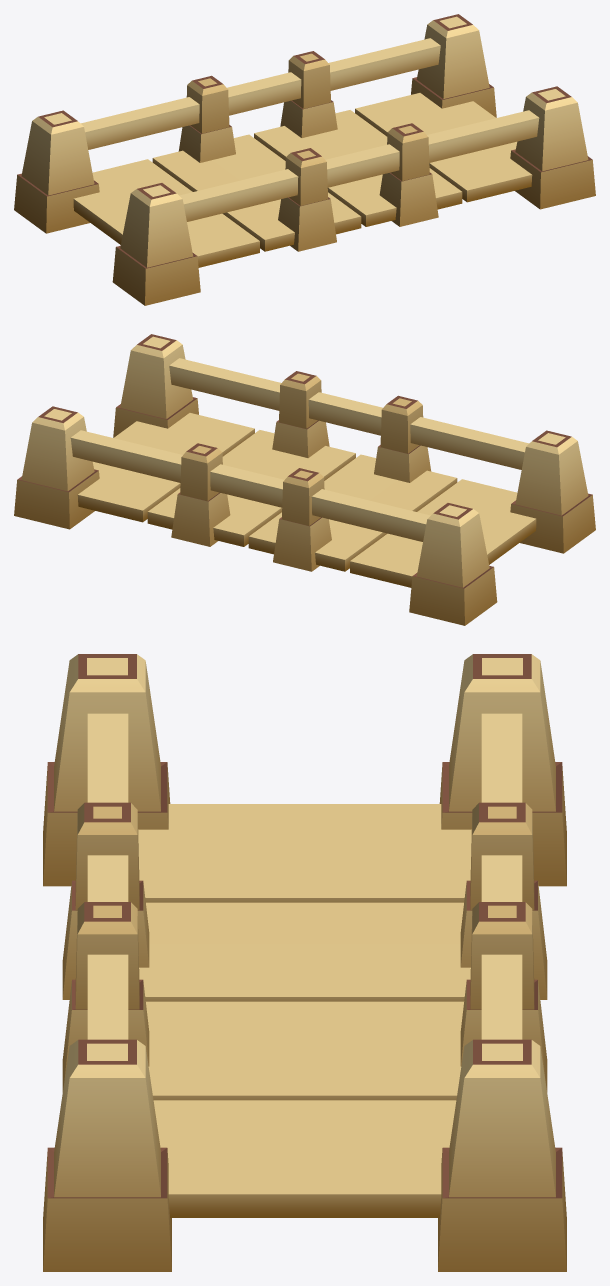
Rendered from Bridge.fbx.
3 renders of one model, top to bottom at view 1: azimuth 30°, elevation 25°; view 2: azimuth 150°, elevation 25°; view 3: azimuth 270°, elevation 25°, orthographic. The views are drawn at different scales.
Parts seen in each view (by area): view 1: Bridge; view 2: Bridge; view 3: Bridge.
Part boxes in pixels (left/top/right/bottom): Bridge: left=14, top=14, right=595, bottom=305; Bridge: left=14, top=334, right=595, bottom=625; Bridge: left=43, top=654, right=566, bottom=1271.
Size of the model in its own units: 3.3 by 1.66 by 0.6716.
